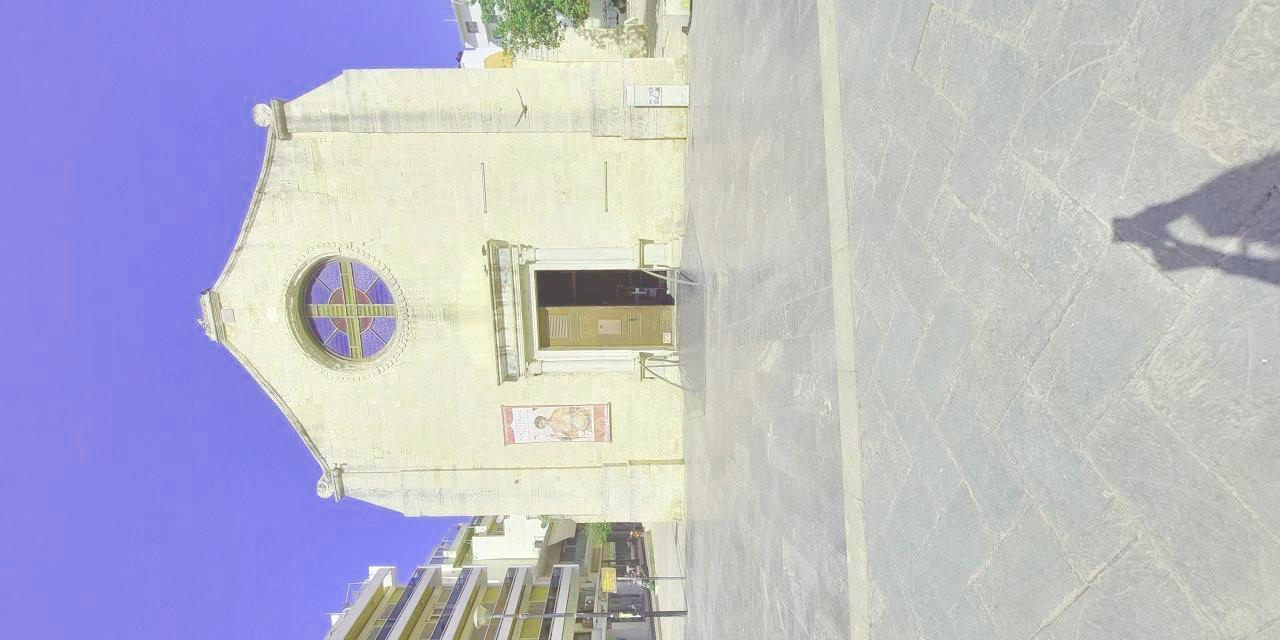Agia Aikaterini: (190, 68, 703, 518)
